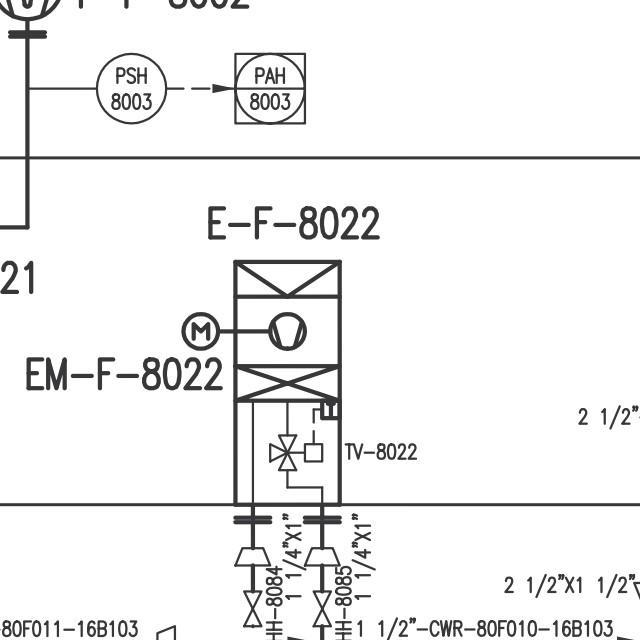3W: (262, 429, 298, 473)
GV: (238, 586, 266, 628), (310, 587, 335, 629)
M: (179, 309, 218, 349)
P: (265, 312, 309, 350)
SP: (301, 542, 342, 569), (232, 542, 271, 569)
